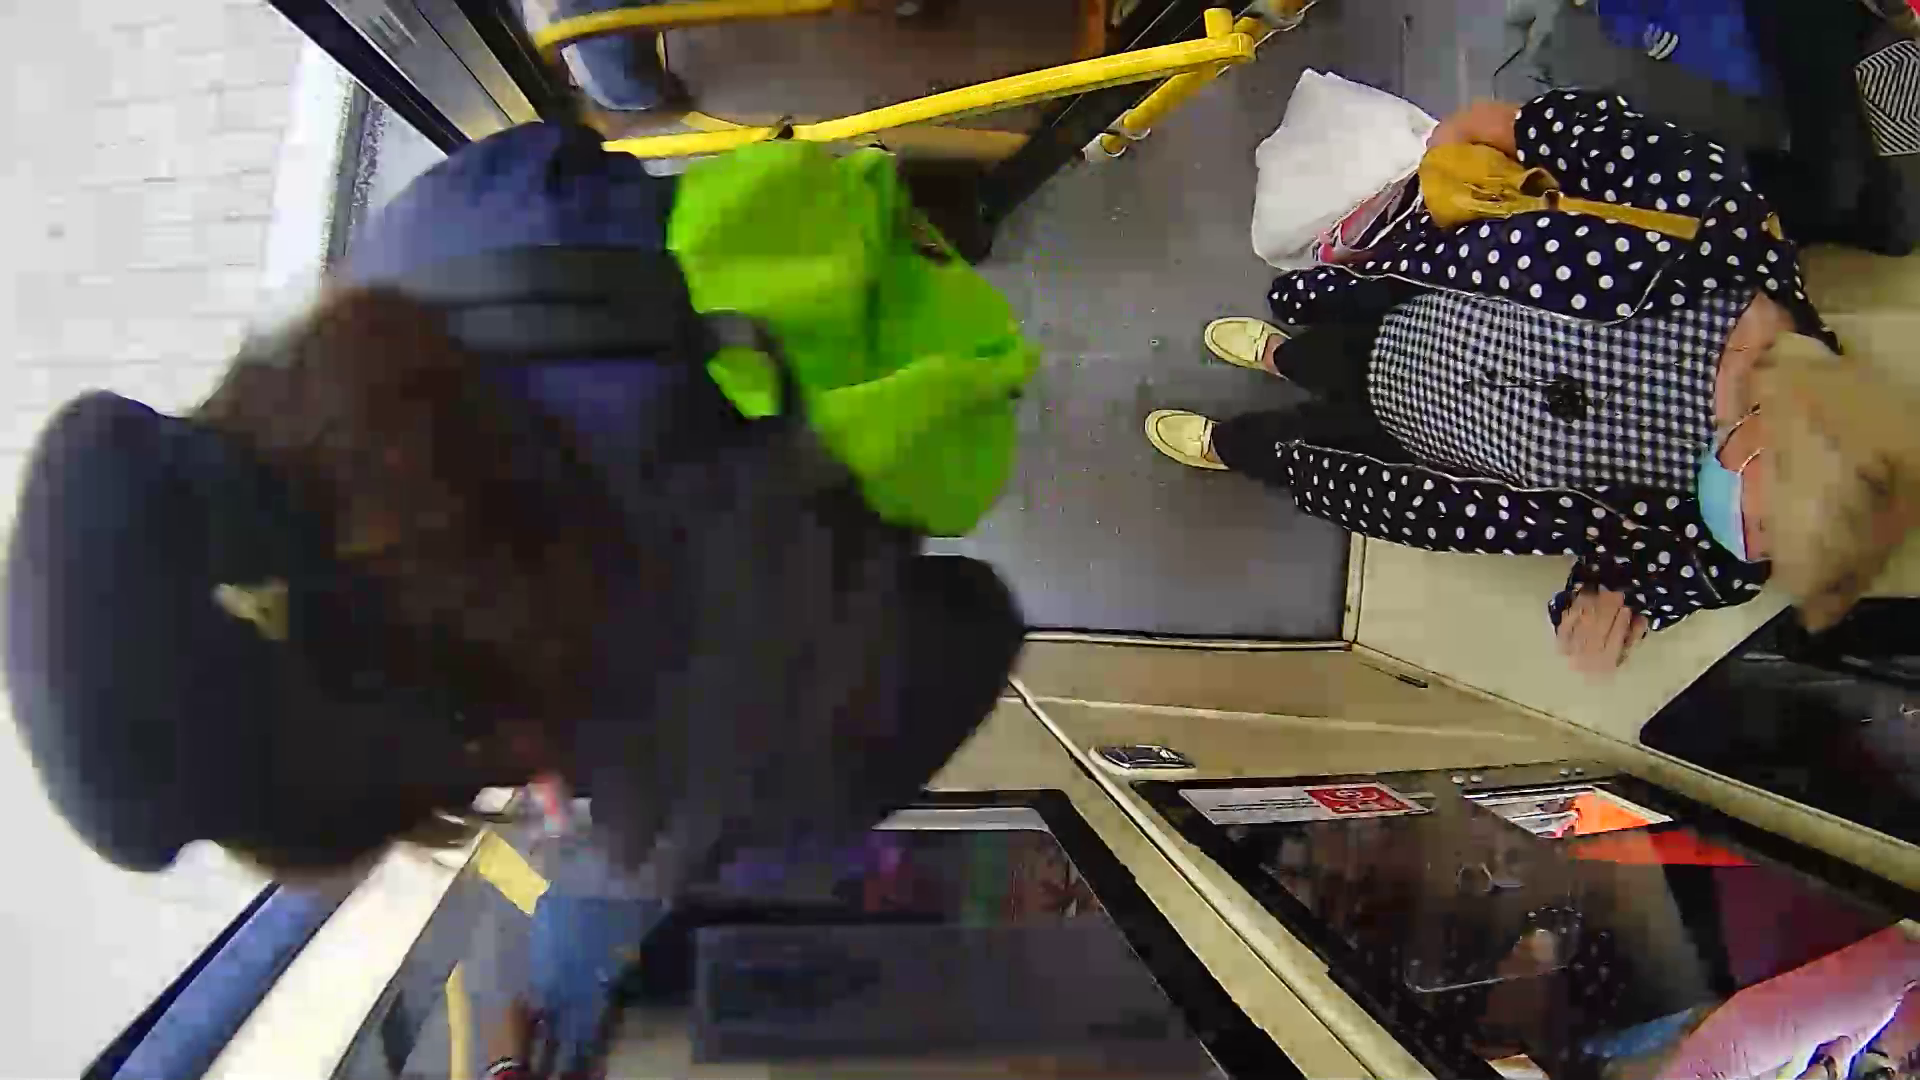person: (56, 127, 1073, 894), (1243, 70, 1892, 659)
